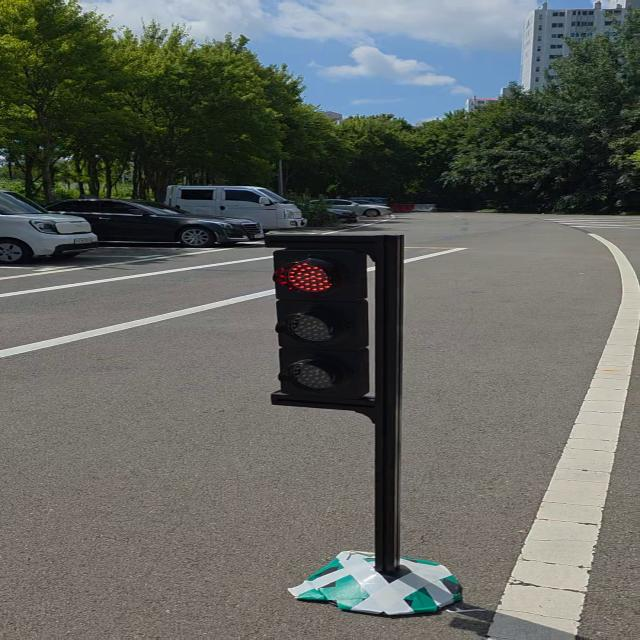red: (265, 238, 388, 414)
